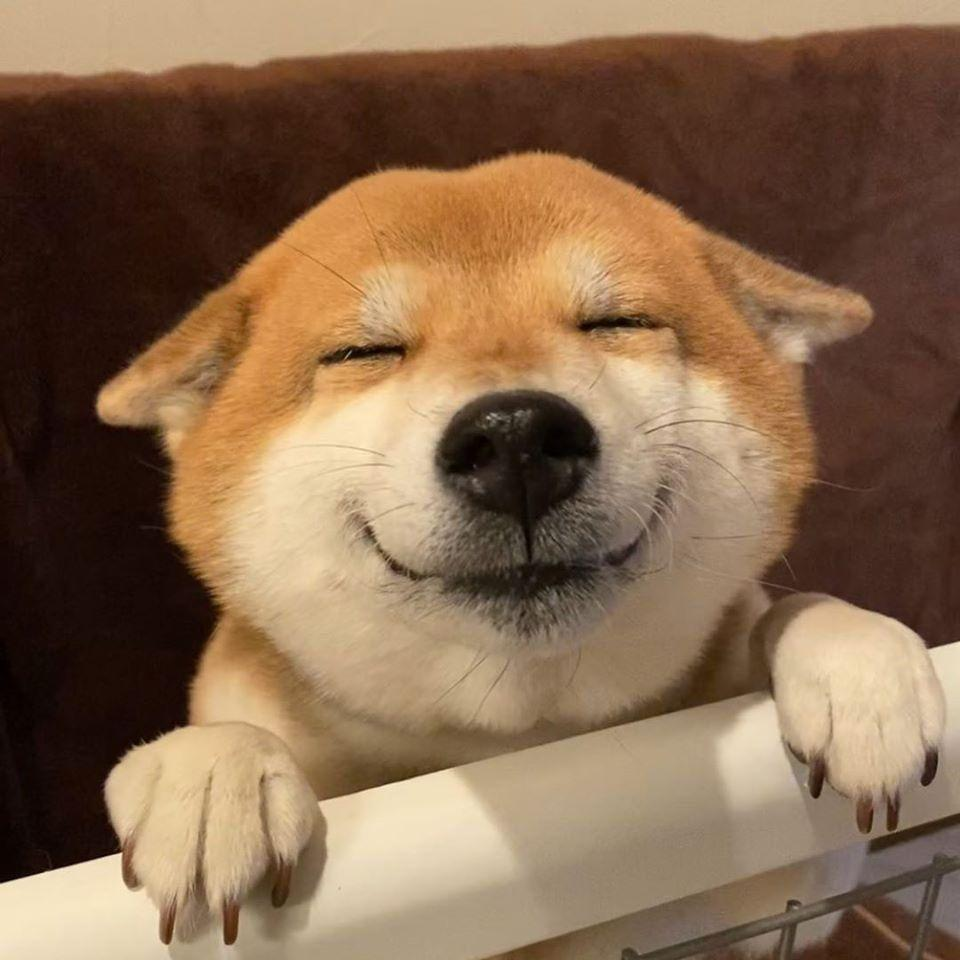adult_dog: (92, 155, 949, 946)
